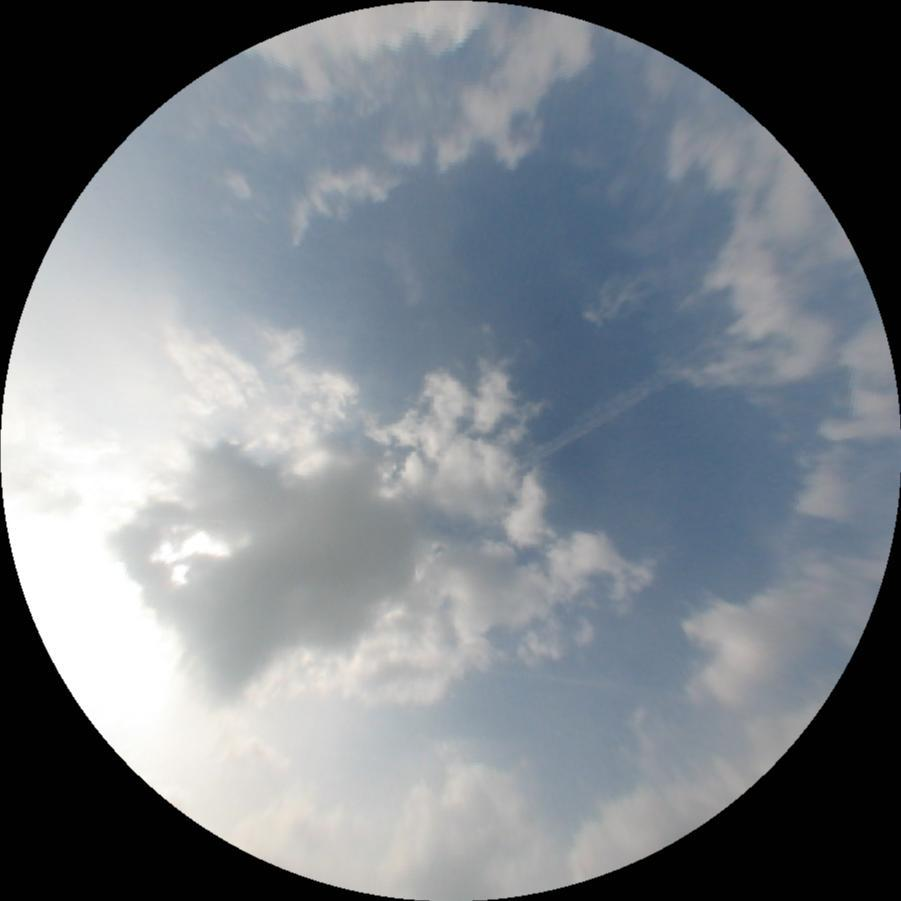contrail old: (478, 668, 652, 696)
contrail veryold: (520, 364, 669, 465)
sun: (0, 463, 214, 761)
